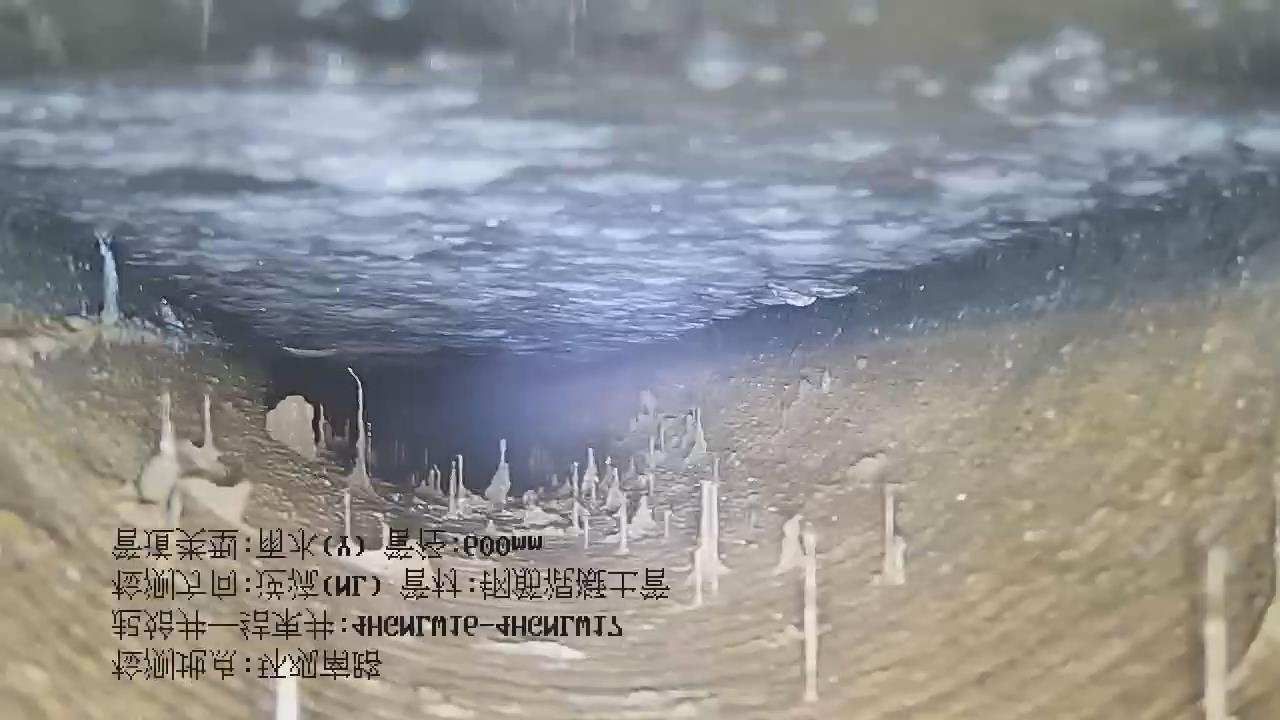FZ: (0, 1, 1279, 357)
JG: (0, 243, 1279, 720)
